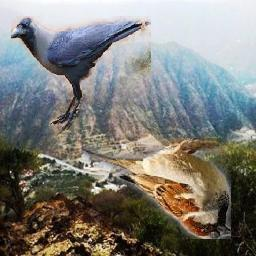Crow: (11, 16, 151, 134)
Sparrow: (83, 139, 232, 240)
